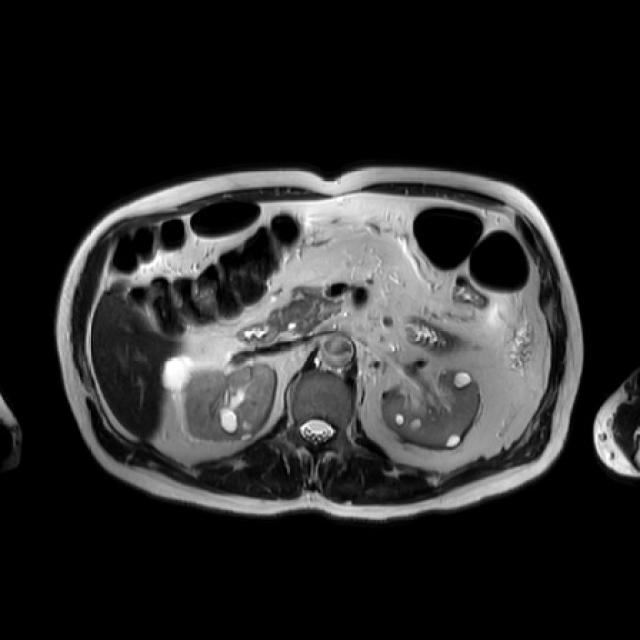sag: (160, 355, 277, 443)
sol: (381, 368, 481, 449)
